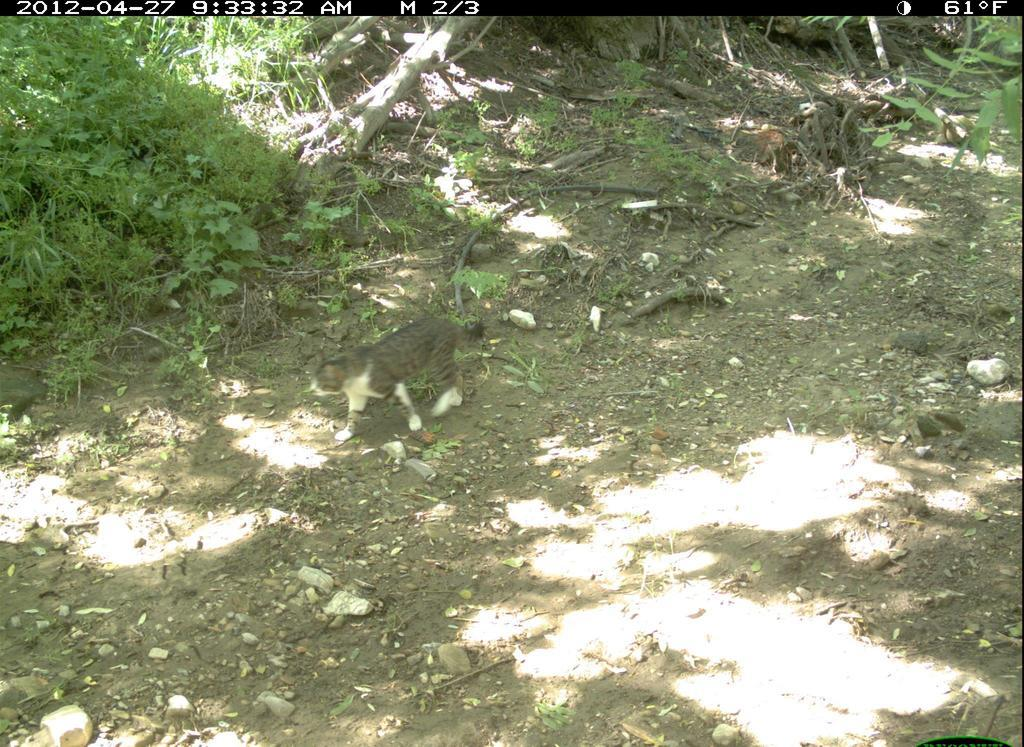cat: (289, 303, 501, 457)
